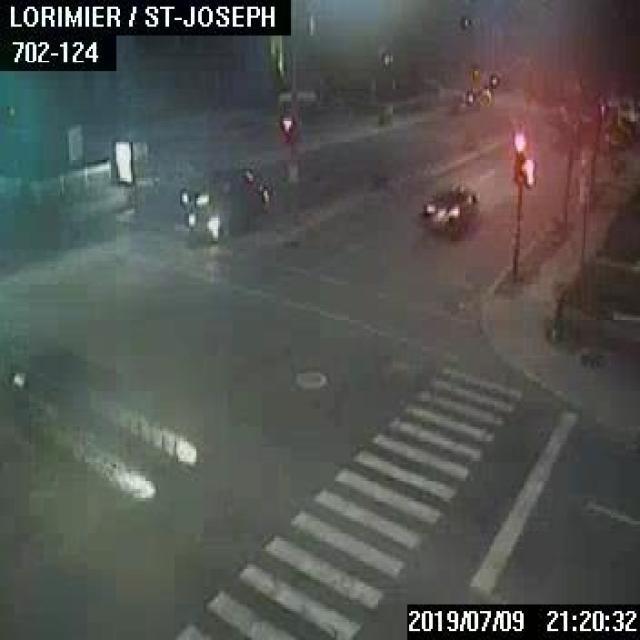vehicle: (186, 187, 268, 241), (178, 168, 259, 205), (418, 184, 475, 236)
